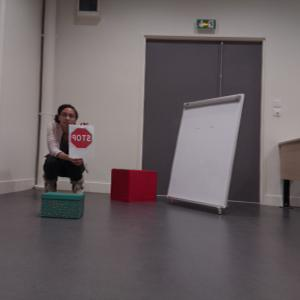stop: (70, 127, 93, 150)
